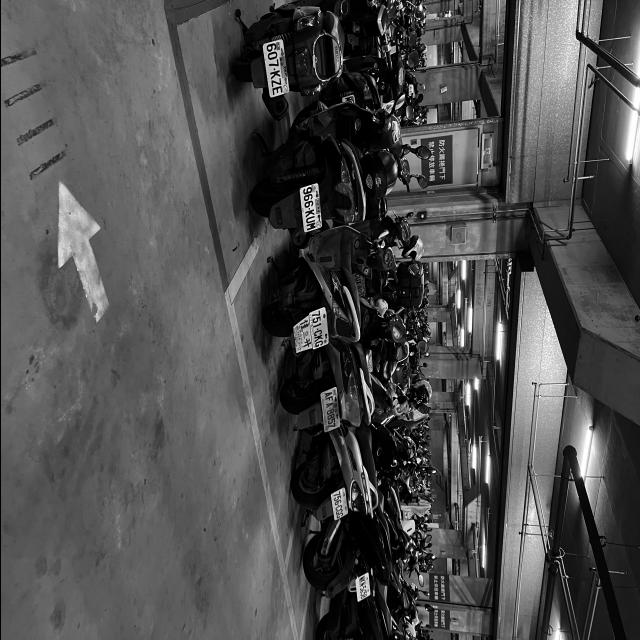-: (272, 68, 274, 72), (308, 208, 310, 210), (316, 328, 318, 330), (328, 407, 330, 409), (336, 504, 338, 506), (361, 585, 362, 588)
0: (266, 51, 277, 62)
1: (312, 322, 321, 328)
5: (311, 316, 320, 325), (326, 418, 335, 425), (333, 495, 341, 502), (358, 585, 366, 591), (359, 591, 366, 597)
6: (265, 43, 276, 53), (302, 193, 312, 202), (303, 200, 313, 209), (333, 499, 340, 506), (359, 589, 366, 594)
7: (267, 58, 279, 68), (311, 310, 320, 318), (327, 422, 335, 428), (332, 491, 340, 497)
8: (325, 408, 333, 416), (326, 413, 334, 421), (359, 594, 366, 600)
9: (302, 187, 312, 196)
A: (323, 391, 332, 399), (324, 402, 333, 409)
C: (313, 329, 322, 337), (334, 505, 341, 511)
E: (271, 85, 282, 96)
F: (323, 395, 332, 402)
G: (314, 340, 323, 348), (335, 512, 342, 519), (335, 509, 342, 515)
K: (269, 70, 280, 80), (303, 209, 314, 218), (313, 334, 322, 342), (358, 578, 365, 585)
M: (305, 222, 316, 231), (343, 96, 351, 102)
N: (358, 581, 365, 588), (357, 575, 364, 582)
U: (305, 215, 315, 224), (355, 276, 360, 281)
Z: (271, 77, 281, 88)
plate: (262, 40, 286, 99), (299, 183, 320, 232), (308, 308, 328, 350), (320, 388, 339, 431), (330, 487, 346, 520), (355, 573, 369, 601)
